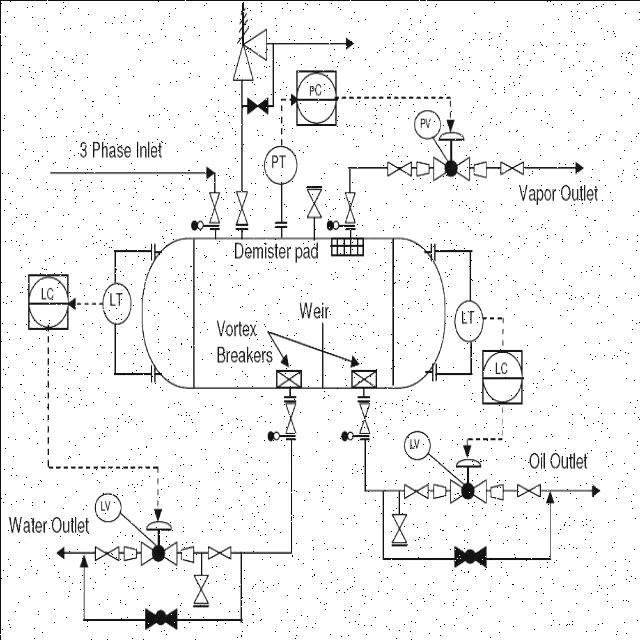Gate Valve: (491, 151, 532, 179), (377, 151, 413, 182), (207, 531, 233, 569), (397, 477, 432, 505), (388, 506, 414, 543), (514, 478, 543, 508), (233, 182, 252, 225), (93, 540, 123, 564), (304, 188, 322, 226), (208, 184, 221, 223)
PSV: (216, 0, 270, 92)
Pneumatic-Diaphragm Globe Valve: (446, 454, 492, 506), (140, 514, 178, 568), (434, 126, 469, 183)
